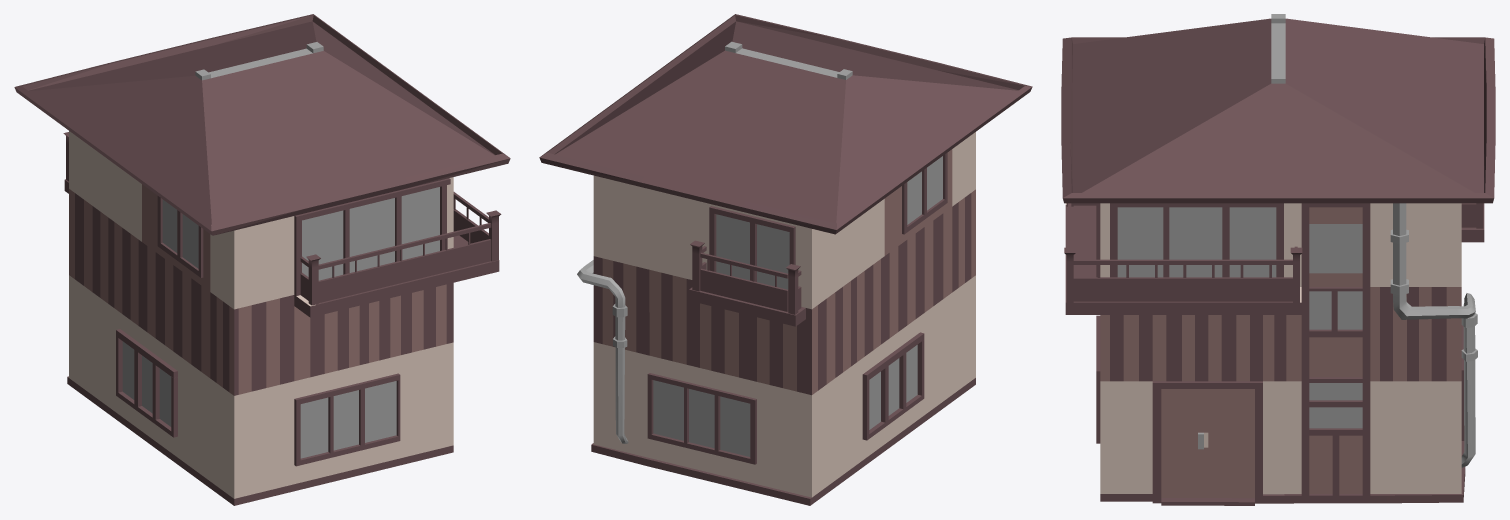
Rendered from mamiehouse_wanwan.fbx.
3 views of the same model, side by side, from view 1: azimuth 30°, elevation 25°; view 2: azimuth 150°, elevation 25°; view 3: azimuth 270°, elevation 25° (orthographic). The views are drawn at different scales.
Parts seen in each view (by area): view 1: house, roof, pCube4, pCube3; view 2: house, roof, pCube6, pCylinder1, pCube7; view 3: house, roof, pCube3, pCylinder1, pCube6.
Part boxes in pixels (x1,y1,x2,y2): house: (64,131,499,505); roof: (14,14,510,235); pCube4: (300,223,491,305); pCube3: (453,192,500,260); house: (591,132,975,505); roof: (539,14,1032,234); pCube6: (690,240,788,311); pCylinder1: (577,260,628,443); pCube7: (786,264,801,314); house: (1065,203,1484,505); roof: (1061,14,1495,203); pCube3: (1064,247,1292,301); pCylinder1: (1390,203,1477,467); pCube6: (1461,203,1483,228).
Size of the model in its own units: 13.21 by 15.25 by 15.18.
